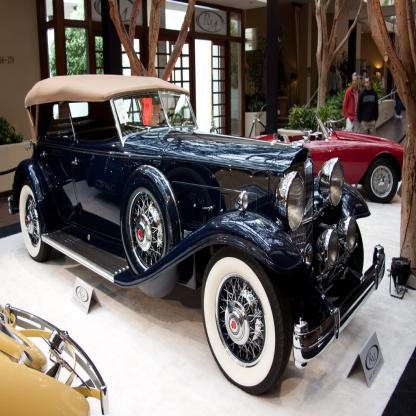Car: (8, 74, 385, 396), (249, 116, 404, 203)
